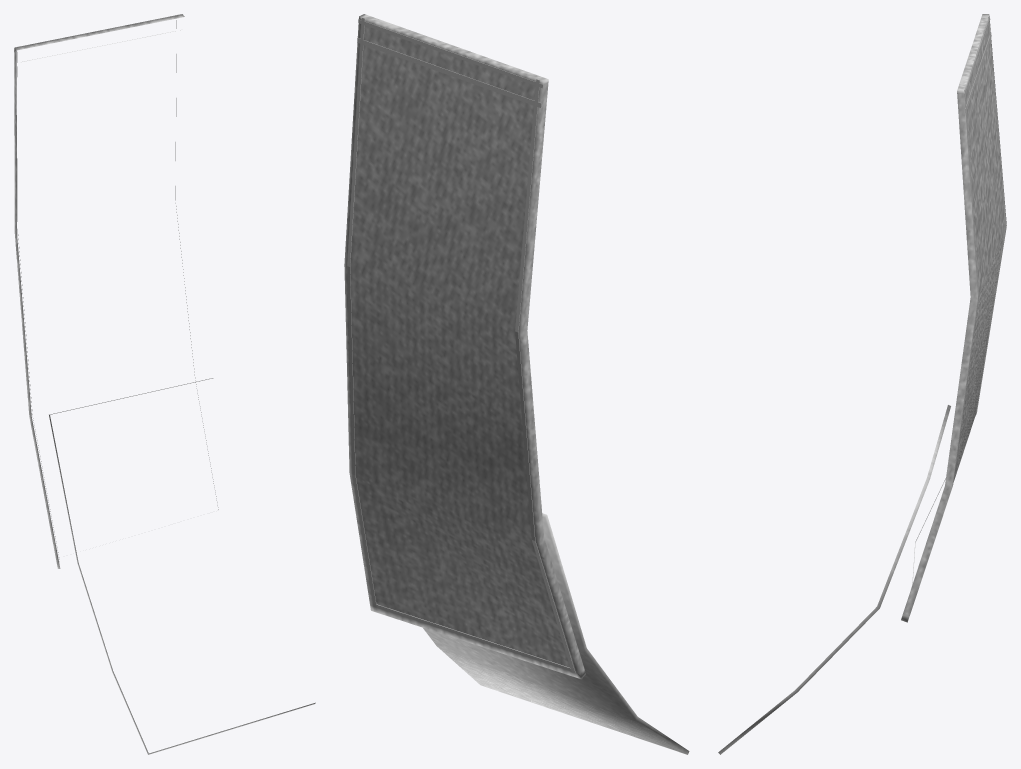
File: Screed.glb
3 views of the same model, side by side, from view 1: azimuth 30°, elevation 25°; view 2: azimuth 150°, elevation 25°; view 3: azimuth 270°, elevation 25° (orthographic). The views are drawn at different scales.
Parts seen in each view (by area): view 1: Screed1, Lipuchka1, Rope1; view 2: Screed1, Lipuchka1, Rope1; view 3: Screed1, Rope1, Lipuchka1.
Part boxes in pixels (x1,y1,x2,y2): Screed1: (14,14,184,568); Lipuchka1: (49,378,315,754); Rope1: (14,14,218,561); Screed1: (344,14,585,679); Lipuchka1: (423,513,689,754); Rope1: (347,17,575,672); Screed1: (901,14,1006,622); Rope1: (912,16,1006,602); Lipuchka1: (718,405,950,754).
Size of the model in its own units: 0.0404 by 0.1367 by 0.0536.
3 materials, 3 textured.
